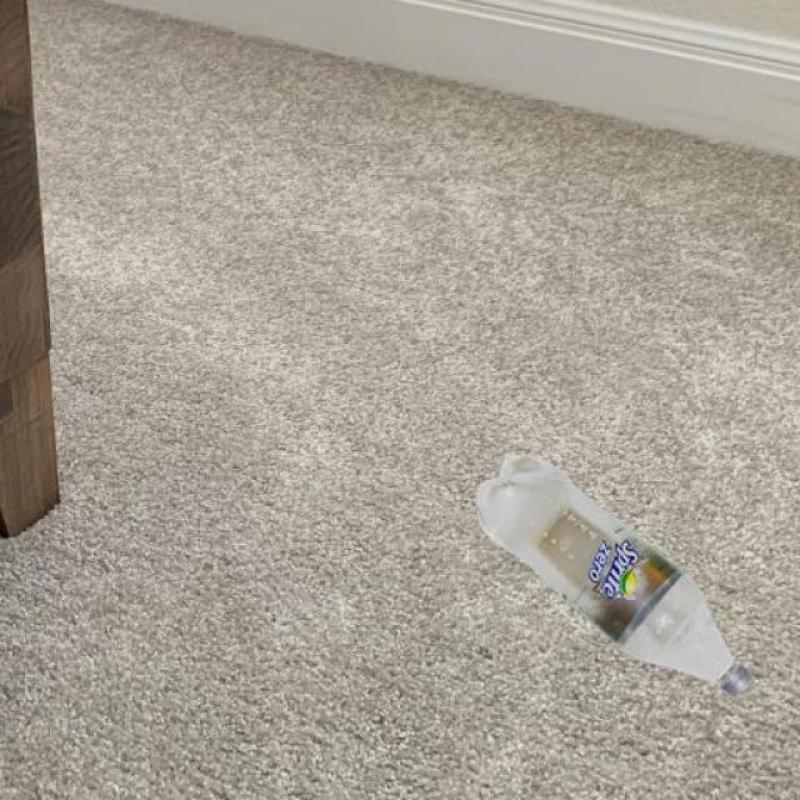botella: (473, 451, 749, 694)
